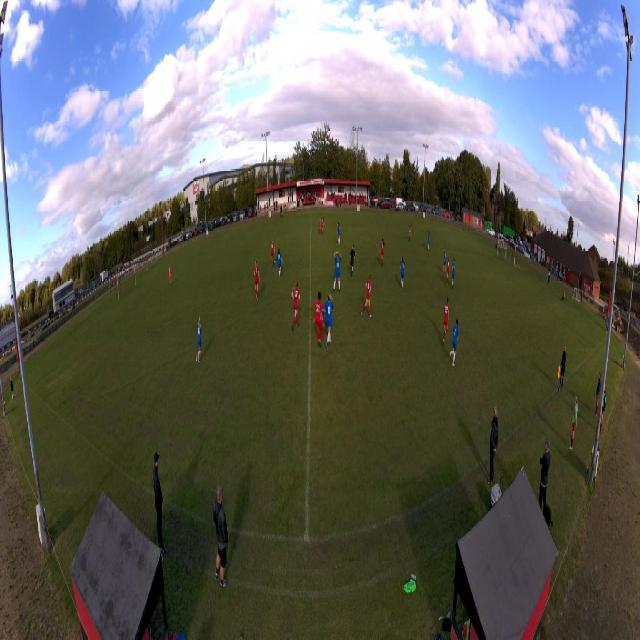ball: (274, 259, 276, 264)
player: (323, 293, 335, 351), (313, 291, 325, 348), (291, 279, 300, 333), (362, 276, 373, 318), (450, 318, 459, 367), (333, 251, 342, 292), (253, 259, 260, 301), (443, 297, 449, 345), (197, 316, 202, 365), (277, 249, 284, 279), (349, 245, 355, 277), (400, 257, 406, 288), (270, 239, 276, 269), (379, 239, 385, 268), (451, 258, 455, 290), (336, 221, 341, 245), (446, 257, 450, 286), (443, 248, 447, 274), (322, 217, 326, 234), (319, 217, 323, 233), (409, 222, 412, 241), (428, 231, 431, 250), (504, 247, 507, 264)
